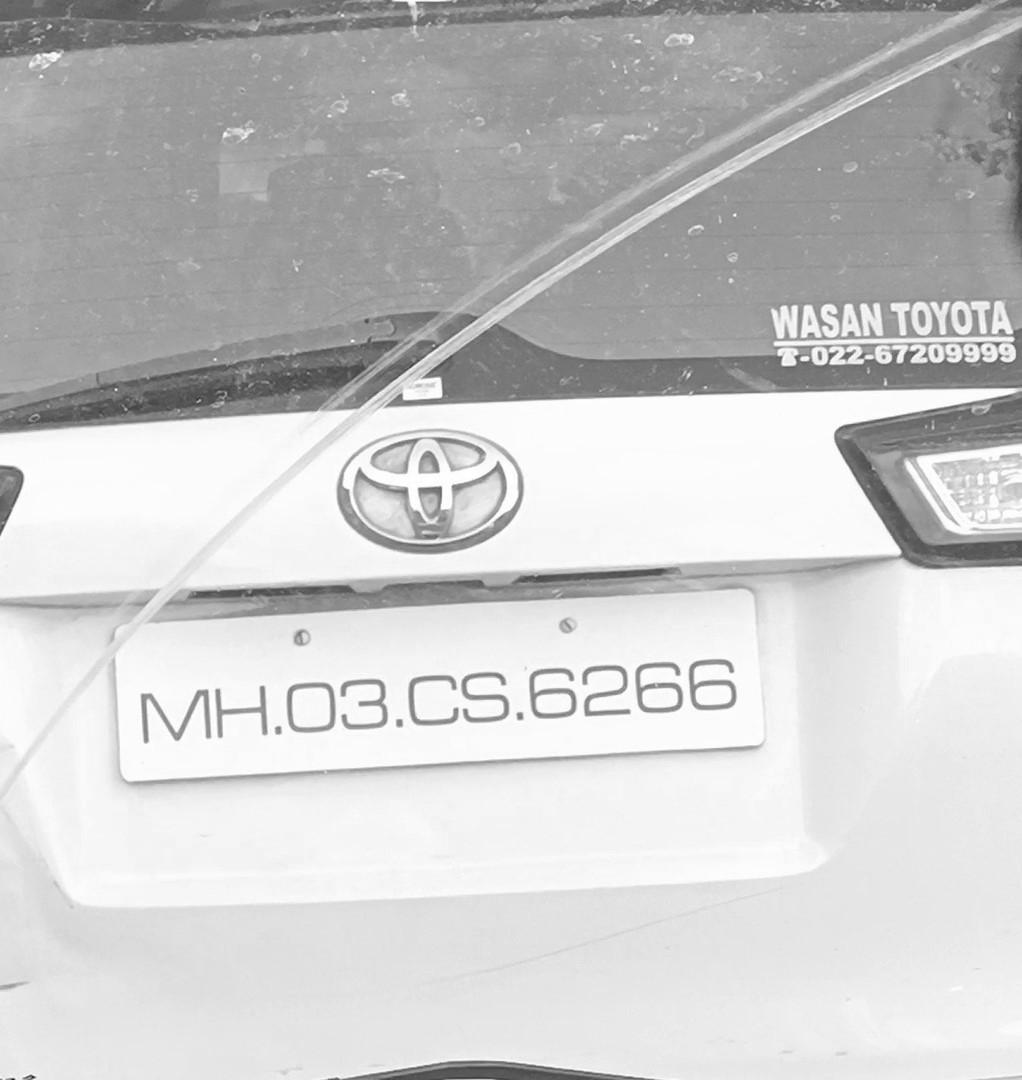number_plate: (113, 628, 768, 771)
